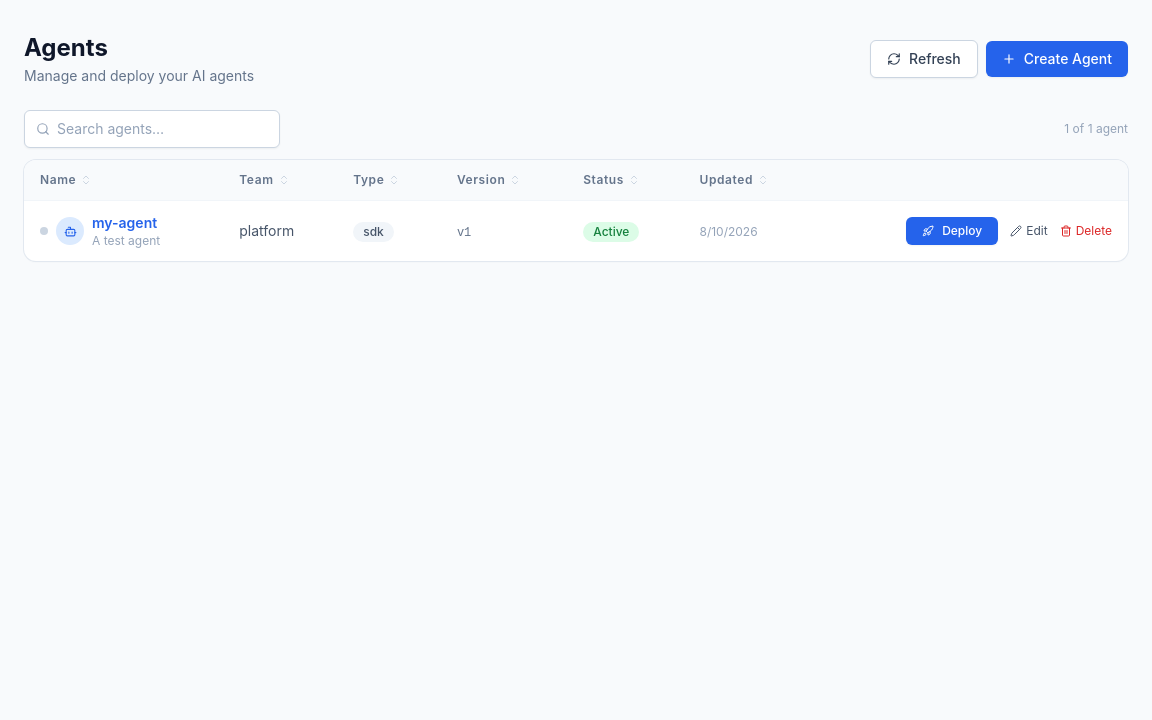
Test case: AgentListPage › Delete modal Cancel dismisses without deleting
The image size is (1152, 720).
Expected: the link "my-agent" is shown, [92,214,157,231]
Click the button "Delete": (1086, 231) [1060,223,1112,239]
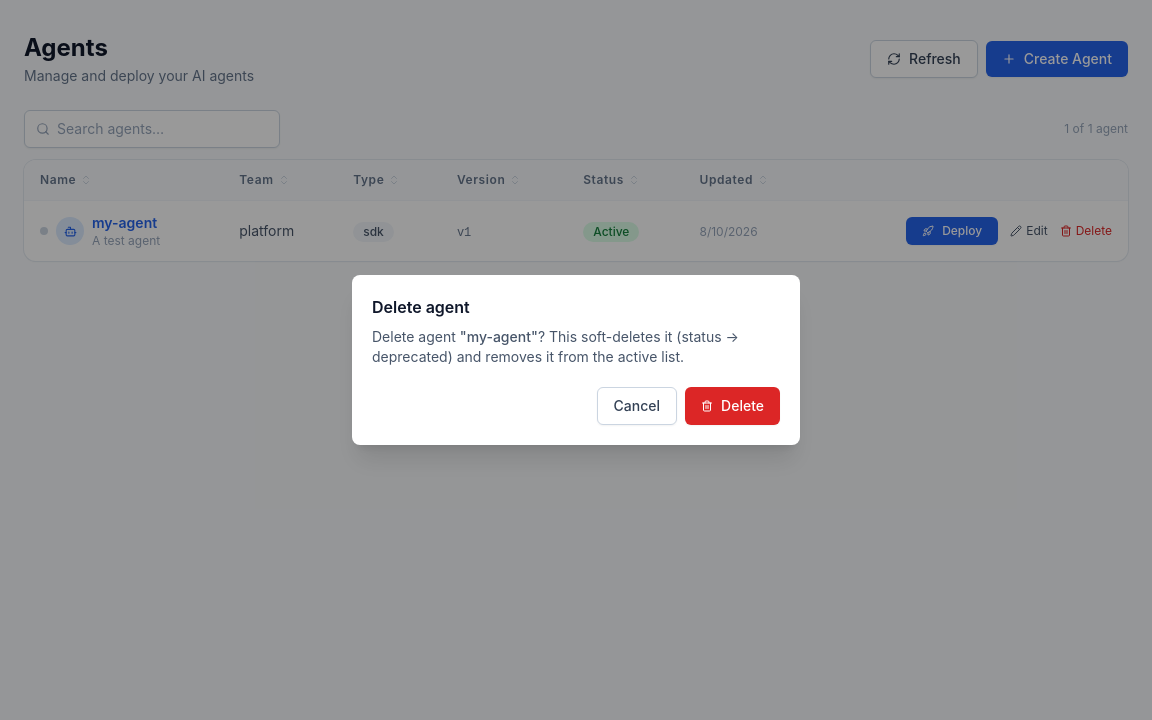
Click the button "Cancel": (637, 406) [597,387,677,425]
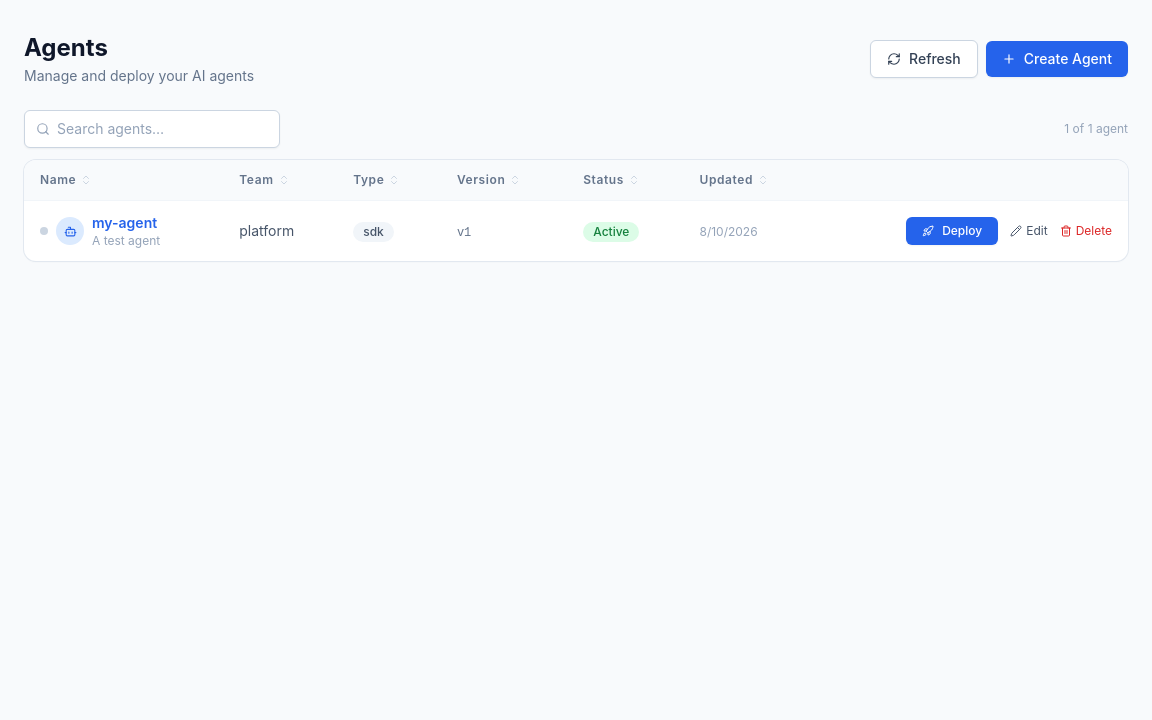
Now the dialog with test id "delete-agent-modal" is gone
